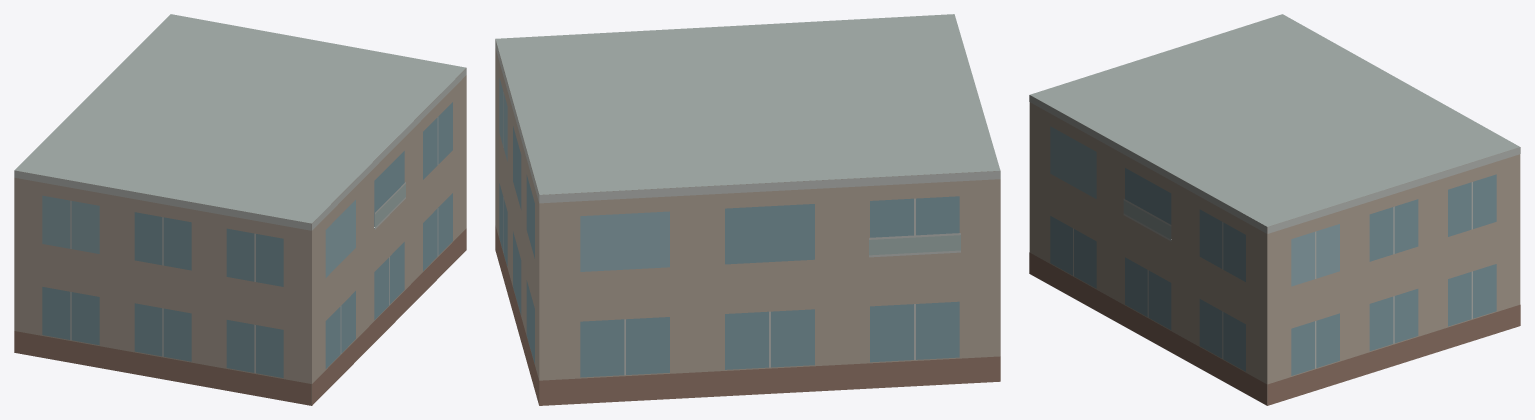
The model's file is survey-upis-32706243.glb.
3 views of the same model, side by side, from view 1: azimuth 30°, elevation 25°; view 2: azimuth 150°, elevation 25°; view 3: azimuth 270°, elevation 25° (orthographic). The views are drawn at different scales.
Visible parts, largest first — view 1: survey-upis-32706243.tmp; view 2: survey-upis-32706243.tmp; view 3: survey-upis-32706243.tmp.
Part boxes in pixels (left/top/right/bottom): survey-upis-32706243.tmp: left=14, top=14, right=466, bottom=405; survey-upis-32706243.tmp: left=495, top=14, right=1000, bottom=405; survey-upis-32706243.tmp: left=1029, top=14, right=1520, bottom=405.
Bounding box in the file's own units: 15.57 × 6.1 × 15.17.
